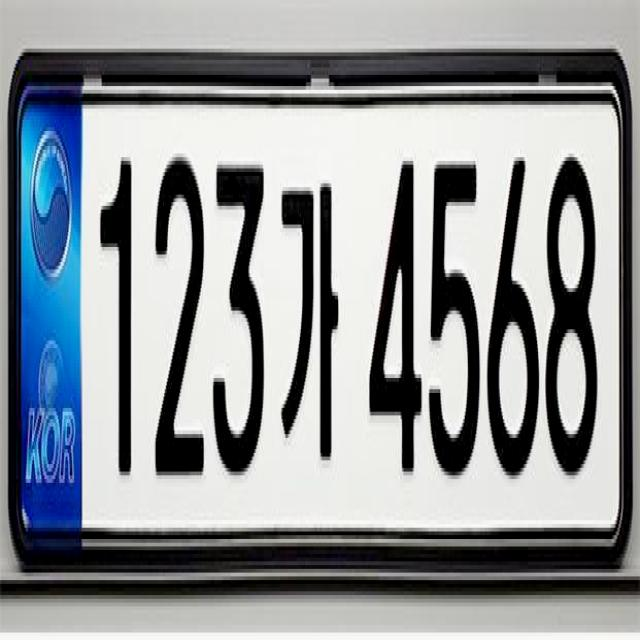illegal_plate: (28, 34, 640, 584)
